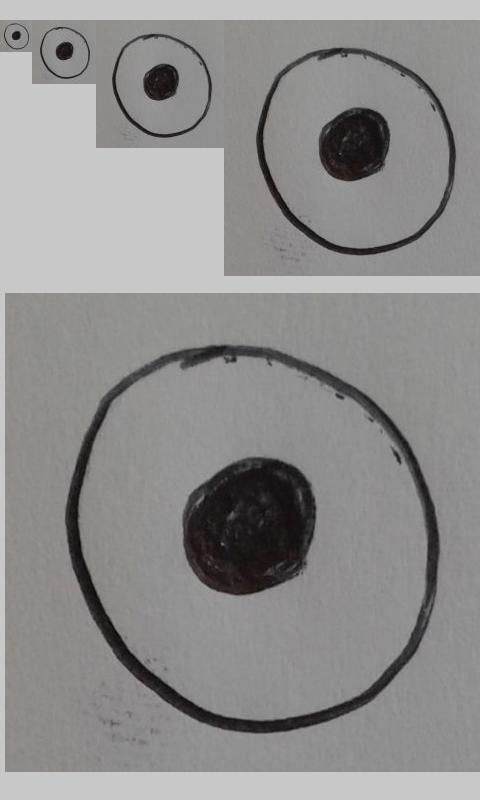radio_button: (62, 340, 444, 736), (254, 43, 458, 258), (109, 30, 213, 139), (38, 25, 91, 80), (3, 22, 30, 50)
